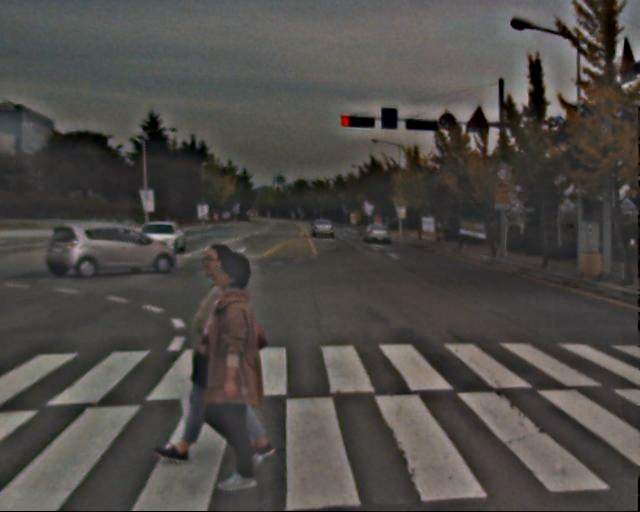person: (189, 255, 285, 489), (177, 246, 272, 459)
